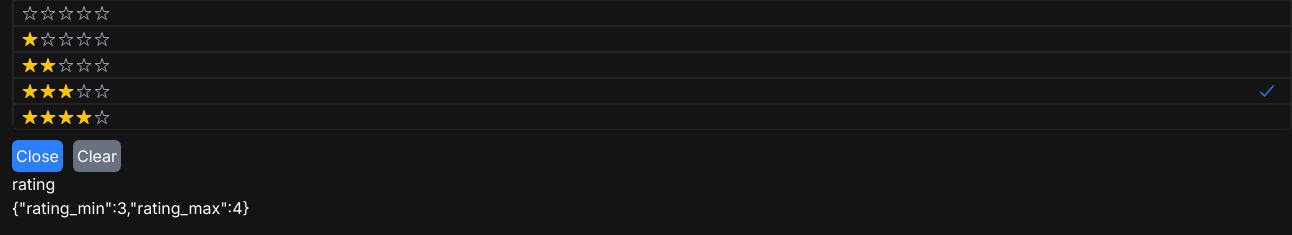
it: RatingFilter › should remove rating filters when selected rating is clicked again
This screenshot has width=1292, height=235.
Click the list item named "Rating 3" at (652, 91), box [13,78,1291,104]
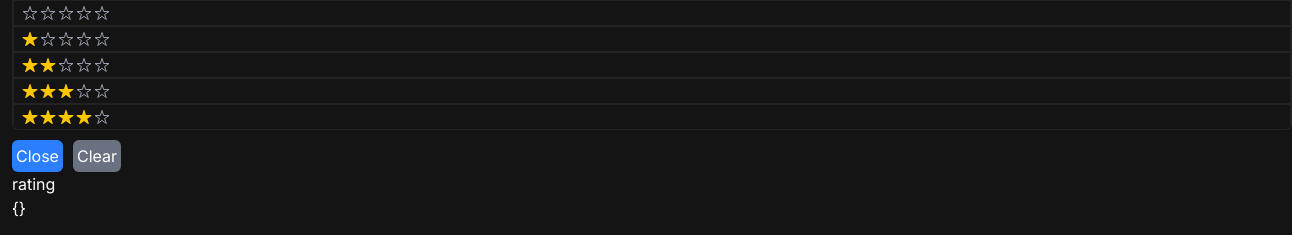
Check: the text with test id "selected-filters" reads "{}", box [12,198,26,218]
